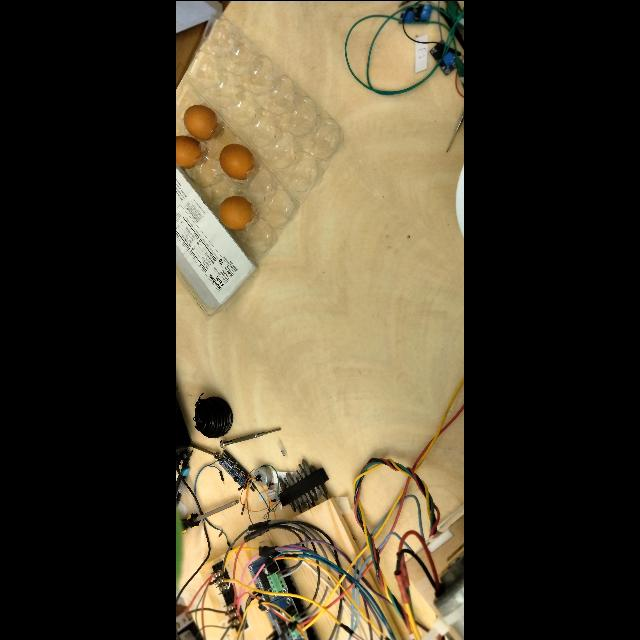Egg: (182, 100, 222, 142), (216, 192, 258, 228), (218, 142, 258, 176), (176, 132, 204, 170)
